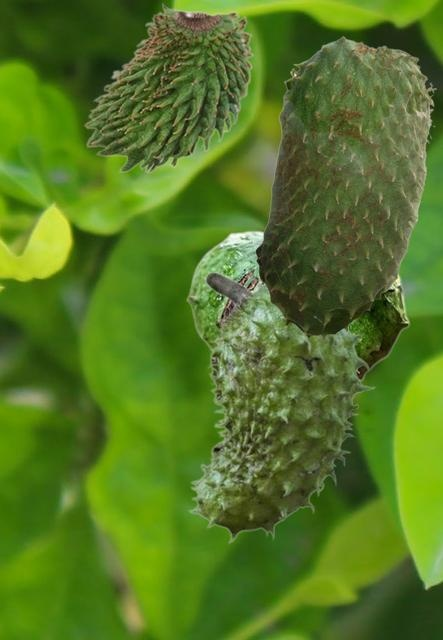guyabano: (253, 35, 435, 340), (187, 271, 375, 543), (186, 230, 409, 381), (83, 2, 253, 172)
